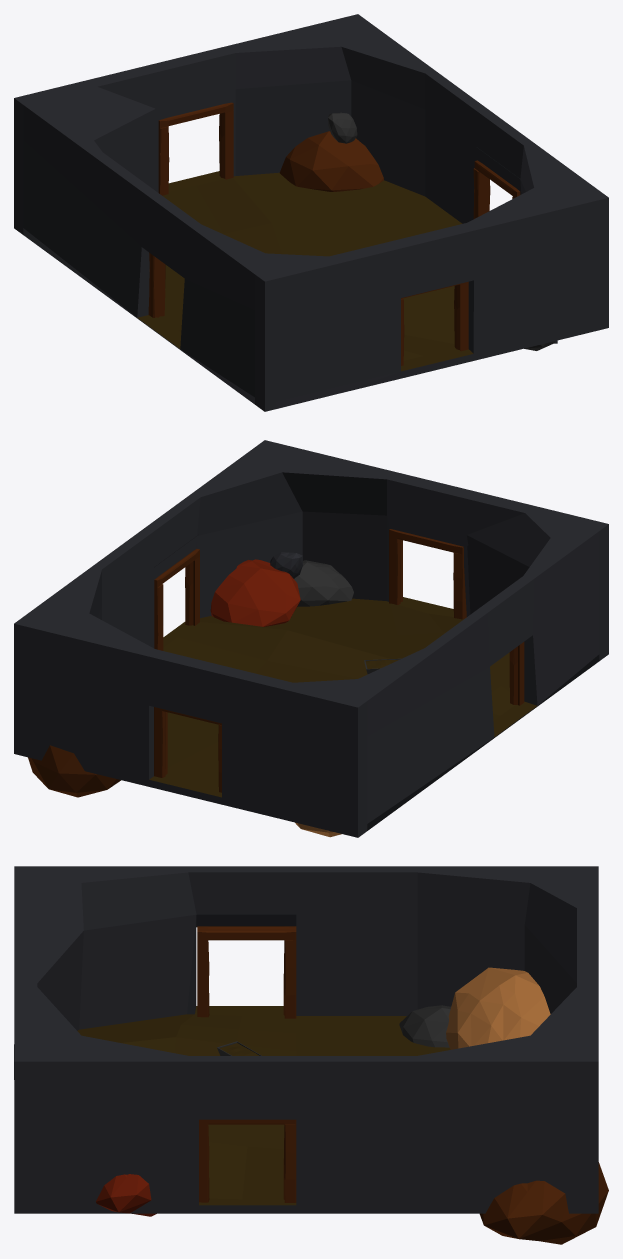
File: 2Room.fbx
3 views of the same model, one above another, from view 1: azimuth 30°, elevation 25°; view 2: azimuth 150°, elevation 25°; view 3: azimuth 270°, elevation 25° (orthographic). The views are drawn at different scales.
Parts seen in each view (by area): view 1: Cube, Icosphere.003, arka.001, arka, arka.002, arka.003, Icosphere.004; view 2: Cube, Icosphere.005, Icosphere.003, arka, arka.002, Icosphere.006, arka.001, arka.003, Icosphere.007; view 3: Cube, Icosphere, Icosphere.003, arka.003, arka.002, Icosphere.001, Icosphere.005.
Part boxes in pixels (left/top/right/bottom): Cube: left=14, top=14, right=608, bottom=411; Icosphere.003: left=279, top=131, right=383, bottom=191; arka.001: left=158, top=102, right=233, bottom=195; arka: left=401, top=281, right=468, bottom=365; arka.002: left=473, top=160, right=520, bottom=218; arka.003: left=148, top=252, right=165, bottom=317; Icosphere.004: left=328, top=112, right=357, bottom=143; Cube: left=14, top=440, right=608, bottom=837; Icosphere.005: left=210, top=559, right=300, bottom=626; Icosphere.003: left=28, top=745, right=120, bottom=797; arka: left=389, top=529, right=466, bottom=619; arka.002: left=154, top=549, right=199, bottom=650; Icosphere.006: left=294, top=560, right=353, bottom=606; arka.001: left=154, top=707, right=221, bottom=792; arka.003: left=509, top=642, right=524, bottom=705; Icosphere.007: left=270, top=552, right=302, bottom=578; Cube: left=14, top=866, right=598, bottom=1213; Icosphere: left=446, top=967, right=550, bottom=1049; Icosphere.003: left=479, top=1162, right=608, bottom=1244; arka.003: left=197, top=926, right=296, bottom=1018; arka.002: left=199, top=1119, right=296, bottom=1202; Icosphere.001: left=399, top=1005, right=450, bottom=1047; Icosphere.005: left=96, top=1174, right=156, bottom=1216.
Size of the model in its own units: 2485 by 1081 by 2969.
